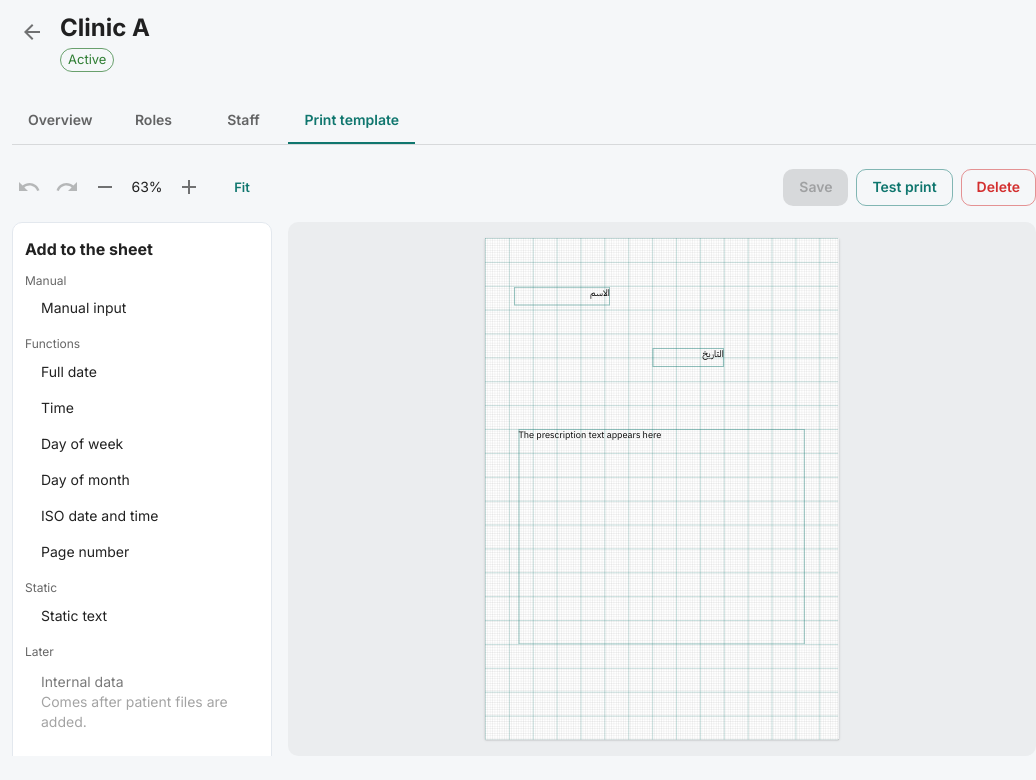
Scenario: print template undo: the buttons @area:admin › a change: Undo on, Redo off; undone: the layout as it was, Undo off, Redo on; redone: as it came @TPL-450
Expected: the button named "Undo" is disabled, [12, 170, 46, 204]
Expected: the button named "Redo" is disabled, [50, 170, 84, 204]
Click the button "الاسم" at x=562, y=296, box [515, 286, 610, 305]
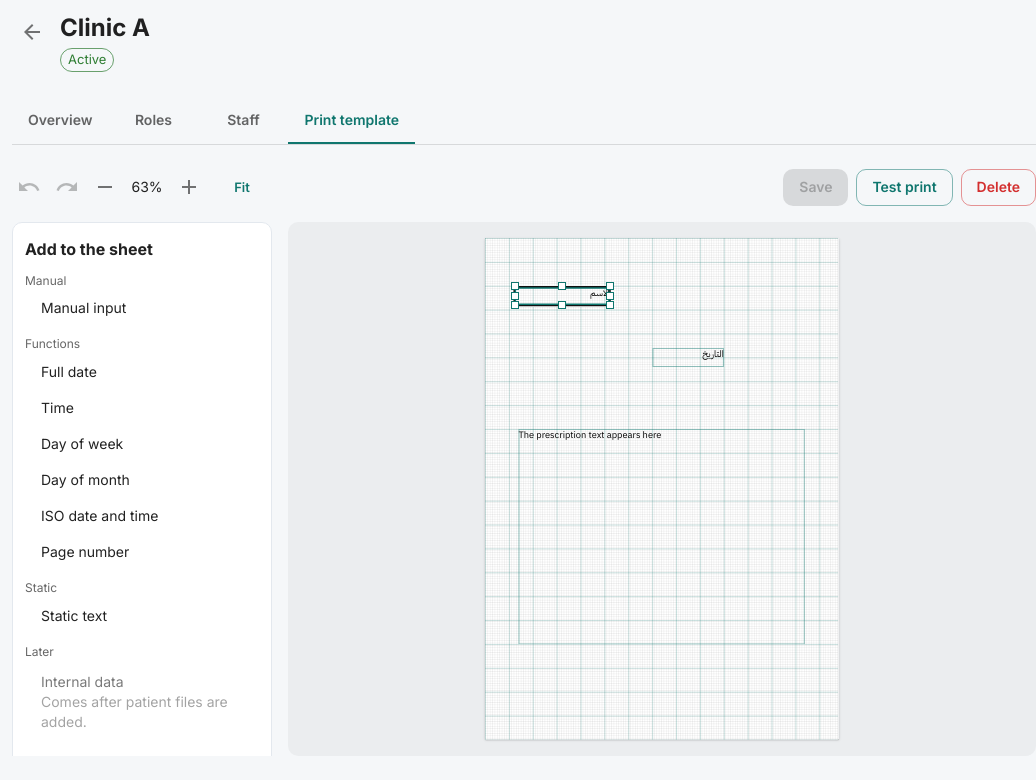
Press ArrowRight in the button "الاسم", box [515, 286, 610, 305]
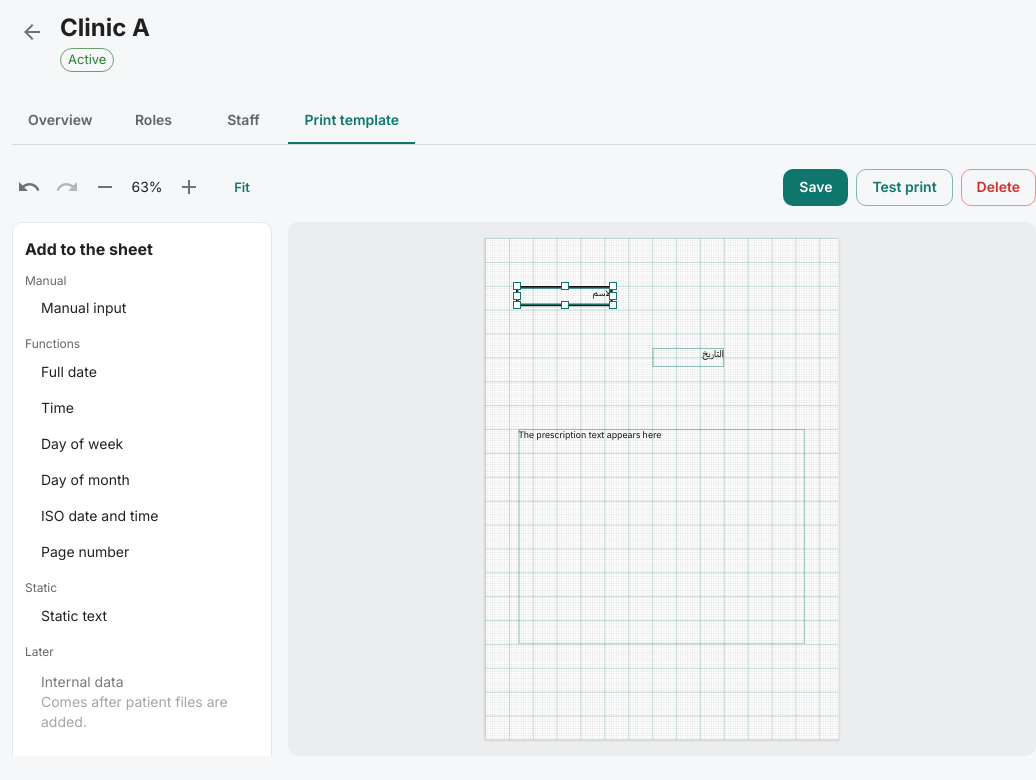
Expected: the button named "Redo" is disabled, [50, 170, 84, 204]
Now the button named "Undo" is enabled
Click the button named "Undo" at x=29, y=187, box [12, 170, 46, 204]
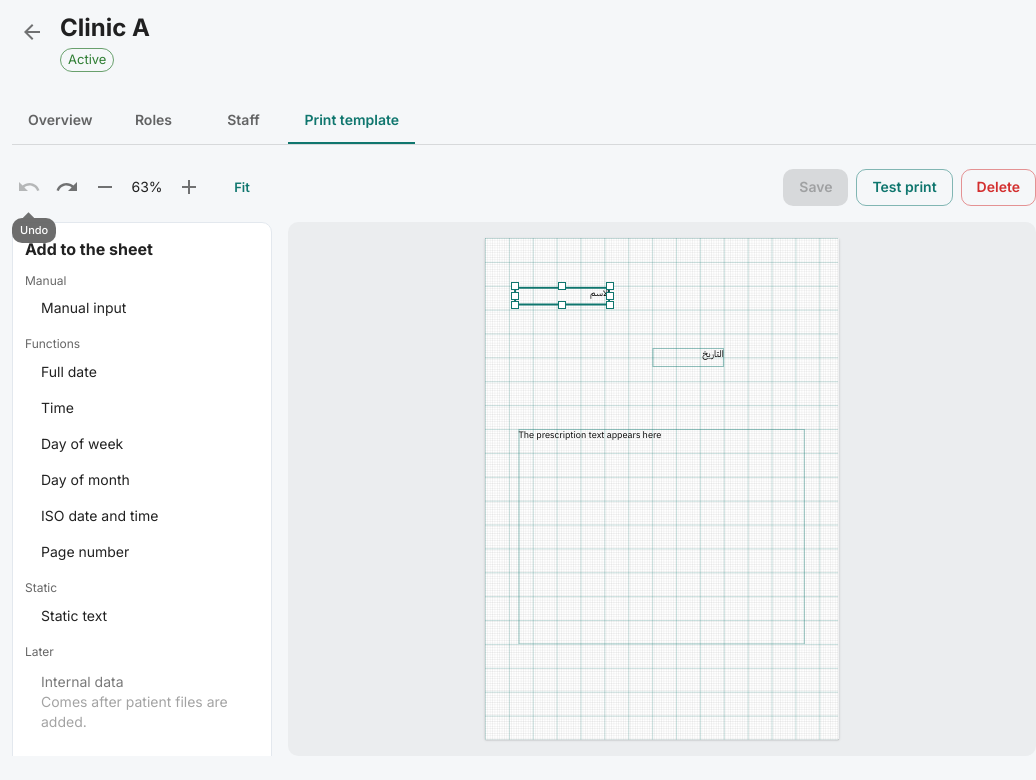
Now the button named "Undo" is disabled, box [12, 170, 46, 204]
Now the button named "Redo" is enabled
Click the button named "Redo" at x=67, y=187, box [50, 170, 84, 204]
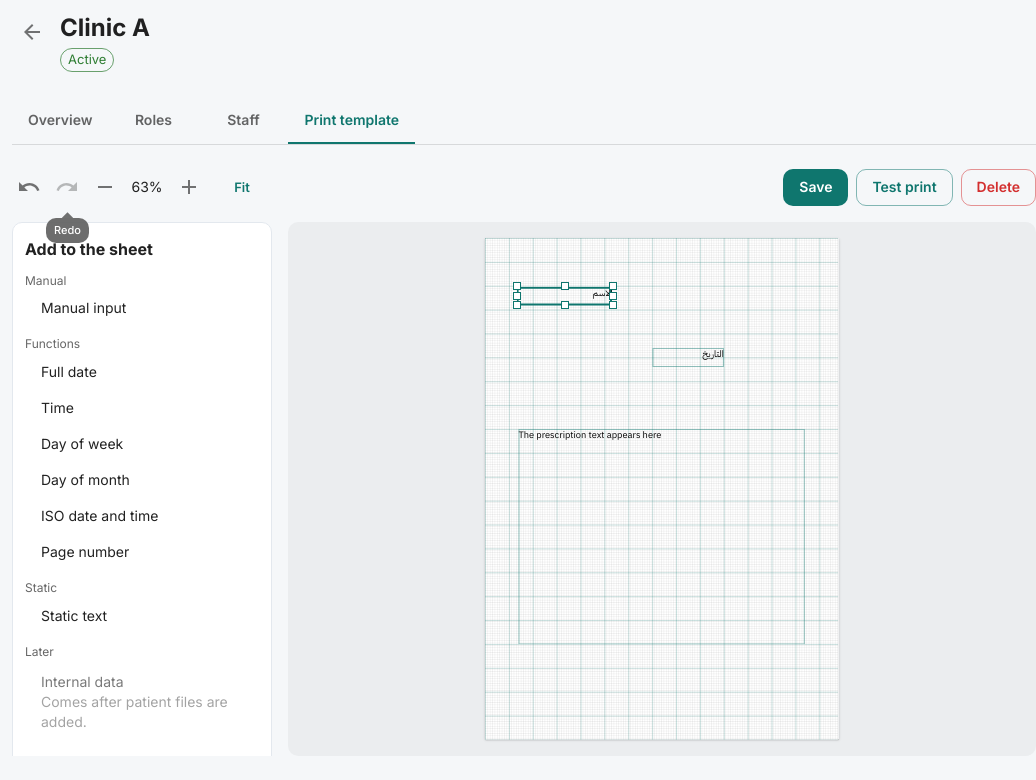
Now the button named "Undo" is enabled, box [12, 170, 46, 204]
Now the button named "Redo" is disabled, box [50, 170, 84, 204]
